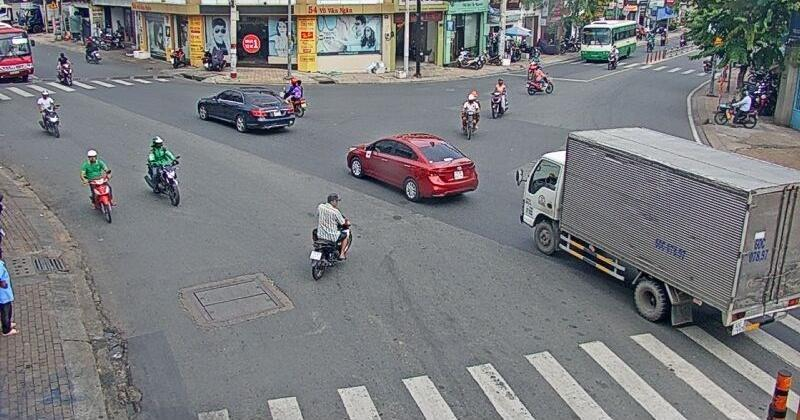xe hoi: (346, 132, 479, 203), (196, 88, 294, 133)
xe may: (311, 193, 352, 280), (143, 135, 180, 207), (78, 149, 114, 223), (36, 90, 61, 137), (460, 91, 480, 139), (489, 77, 508, 119)
xe tai: (521, 128, 800, 323)
